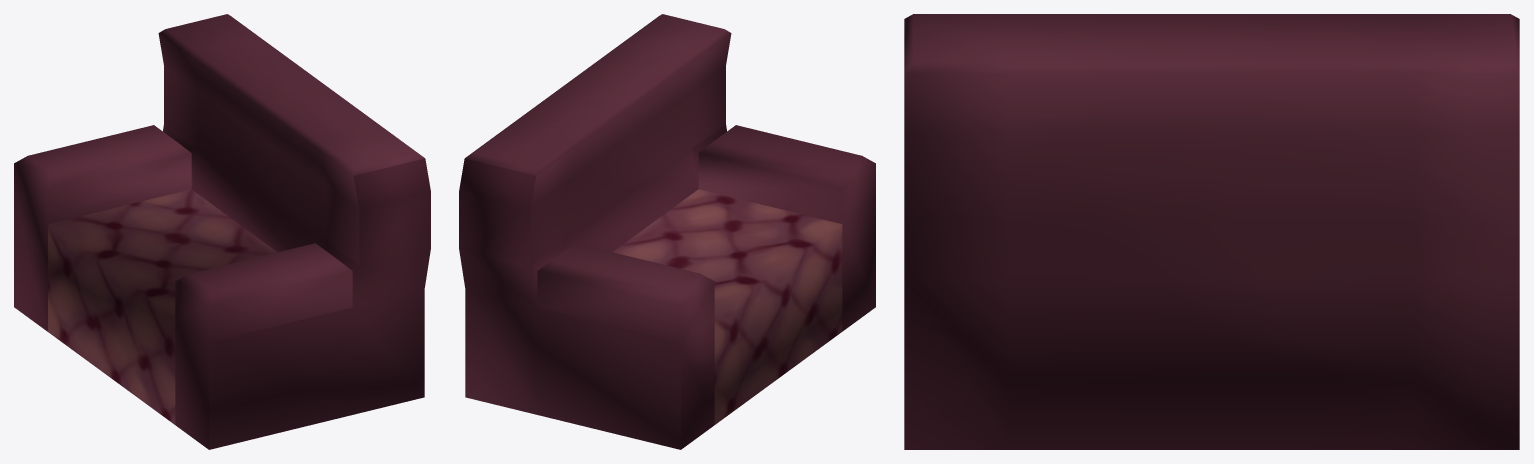
File: Sofa.fbx
The picture shows the model from 3 angles, left to right: view 1: azimuth 30°, elevation 25°; view 2: azimuth 150°, elevation 25°; view 3: azimuth 270°, elevation 25°; orthographic projection. The views are drawn at different scales.
Parts seen in each view (by area): view 1: Sofa; view 2: Sofa; view 3: Sofa.
Part boxes in pixels (<box>): Sofa: <box>14,14,430,449</box>; Sofa: <box>459,14,875,449</box>; Sofa: <box>904,14,1519,449</box>.
Size of the model in its own units: 159 by 242 by 167.
